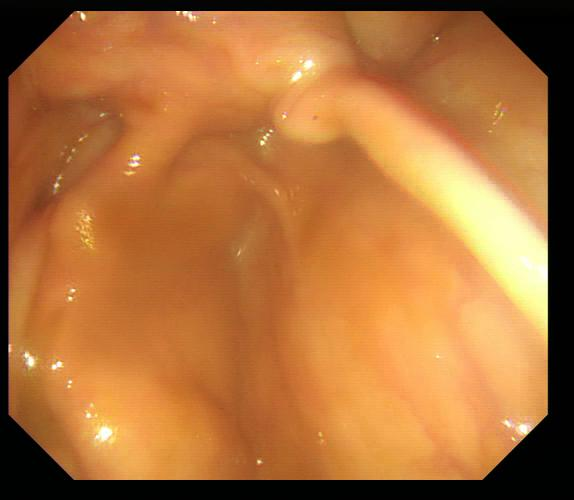polyp: (266, 100, 334, 143), (48, 189, 91, 243)
